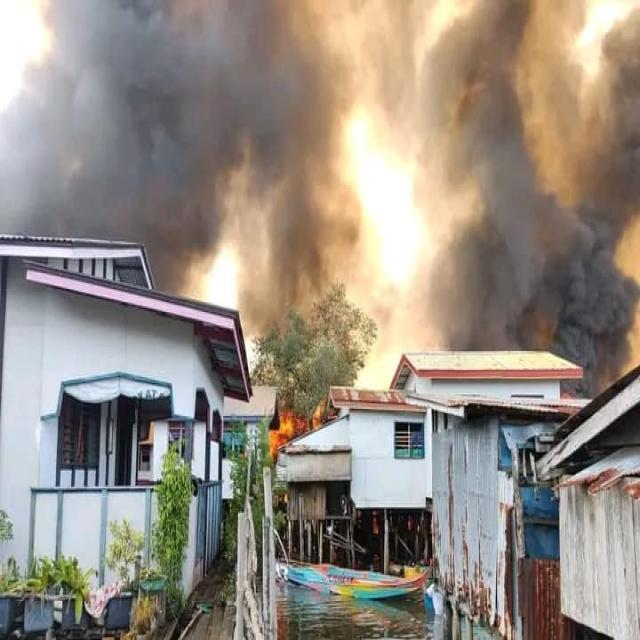Fire: (282, 402, 328, 432), (271, 429, 291, 451)
Smoke: (0, 0, 360, 241), (420, 2, 640, 342)
